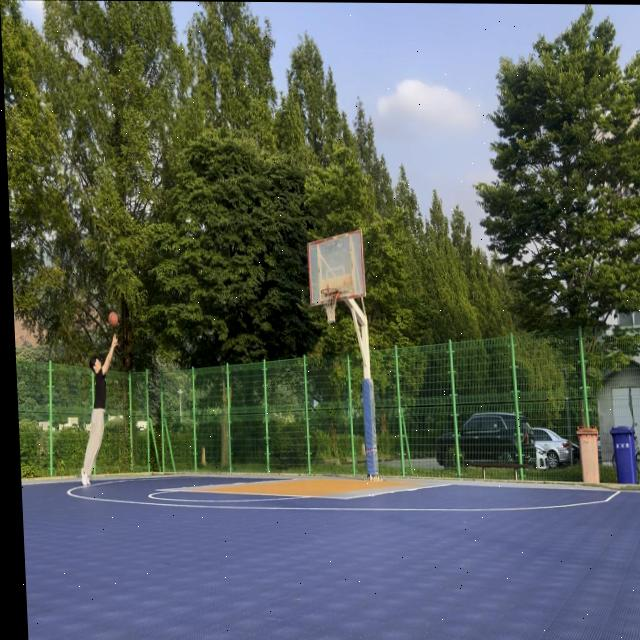basketball: (108, 311, 119, 329)
hoop: (320, 288, 341, 326)
